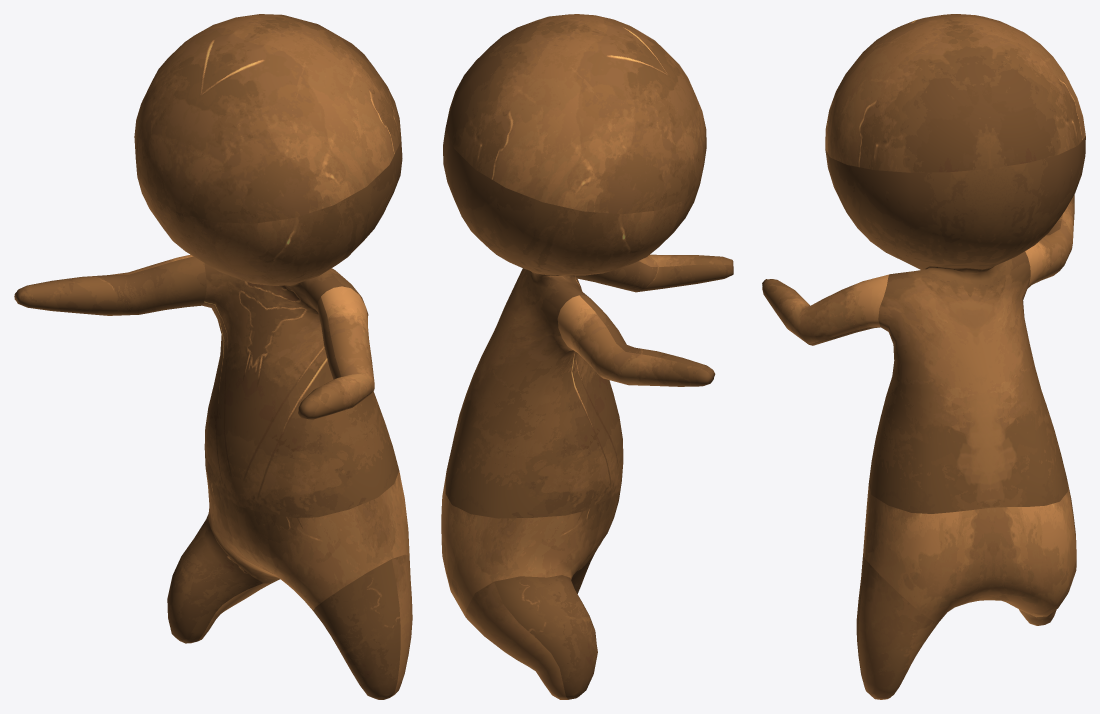
The model's file is personagem4.fbx.
The picture shows the model from 3 angles, left to right: view 1: azimuth 30°, elevation 25°; view 2: azimuth 150°, elevation 25°; view 3: azimuth 270°, elevation 25°; orthographic projection. The views are drawn at different scales.
Parts seen in each view (by area): view 1: polySurface91; view 2: polySurface91; view 3: polySurface91.
Part boxes in pixels (bbox=[...]): polySurface91: bbox=[14, 14, 412, 699]; polySurface91: bbox=[441, 14, 733, 699]; polySurface91: bbox=[762, 14, 1085, 699].
Size of the model in its own units: 30.05 by 60.27 by 27.82.
